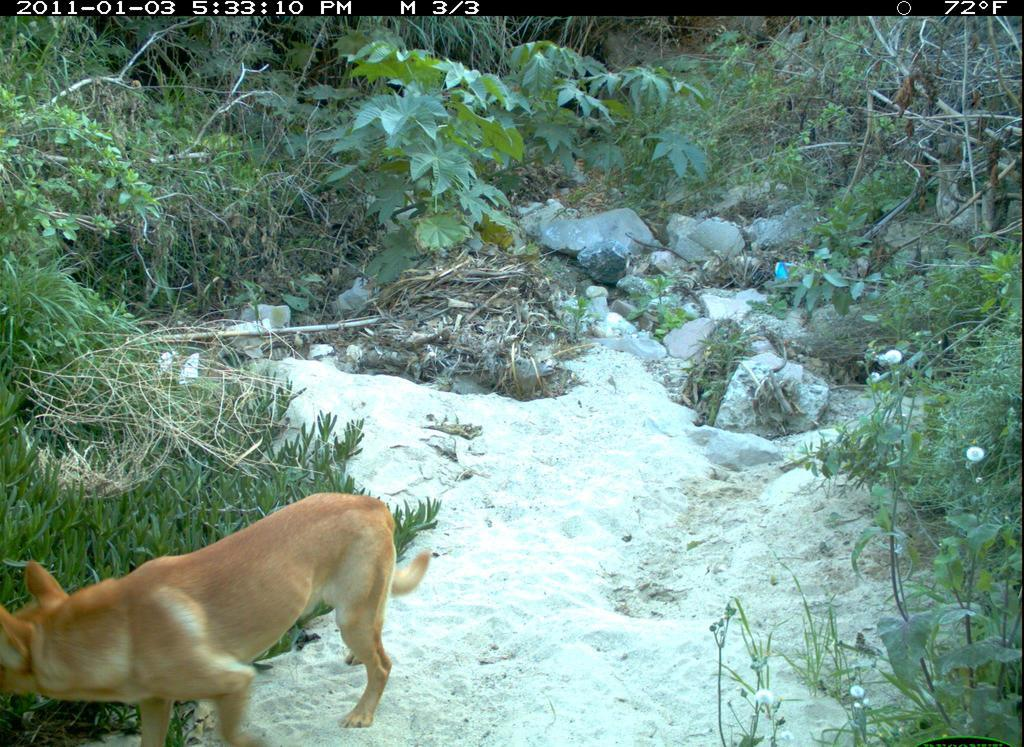dog: (3, 484, 438, 745)
